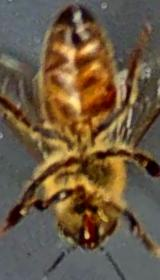varroa_mite: (90, 74, 130, 116)
